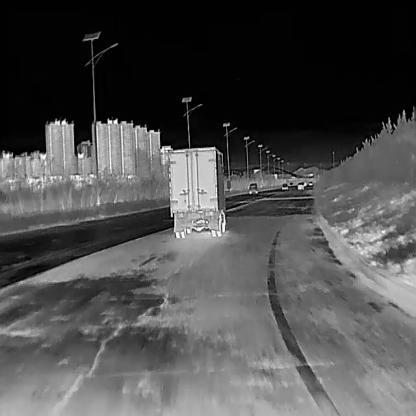car: (166, 146, 230, 238), (248, 182, 258, 193), (281, 181, 288, 189), (297, 181, 304, 189), (289, 180, 294, 187), (308, 180, 313, 185)
